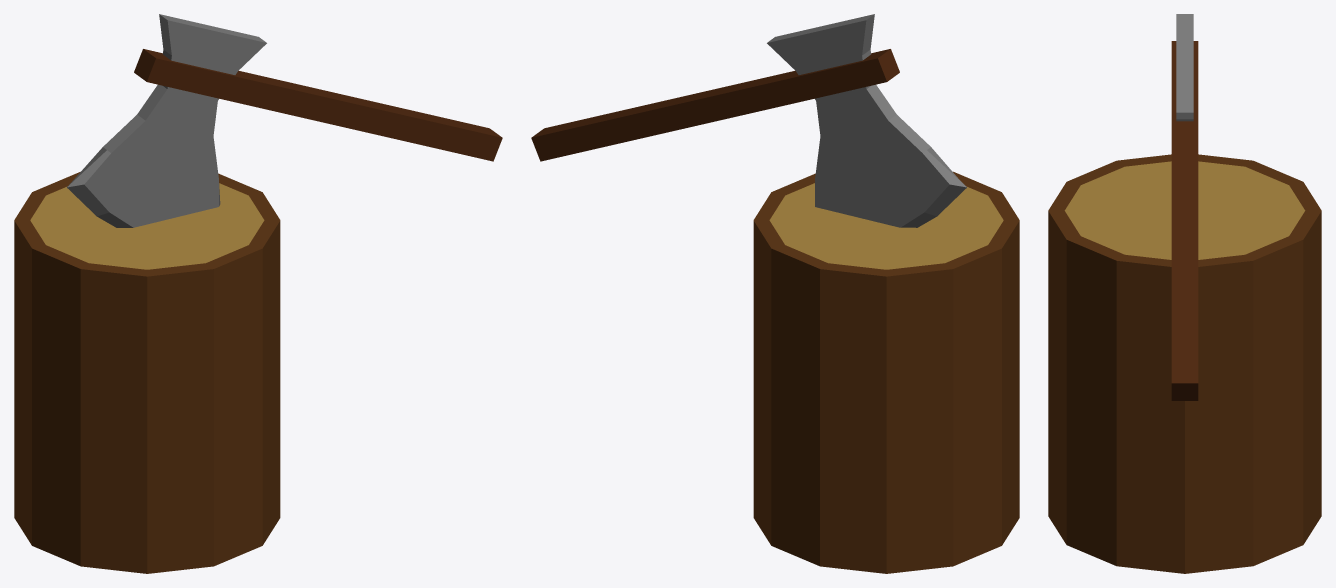
Rendered from StumpWithAxe.fbx.
3 views of the same model, side by side, from view 1: azimuth 30°, elevation 25°; view 2: azimuth 150°, elevation 25°; view 3: azimuth 270°, elevation 25° (orthographic). The views are drawn at different scales.
Visible parts, largest first — view 1: Cylinder; view 2: Cylinder; view 3: Cylinder.
Boxes of the visible parts, left/top/right/bottom form: Cylinder: left=14, top=14, right=502, bottom=573; Cylinder: left=531, top=14, right=1019, bottom=573; Cylinder: left=1048, top=14, right=1321, bottom=573.
Size of the model in its own units: 147 by 150 by 72.81.
